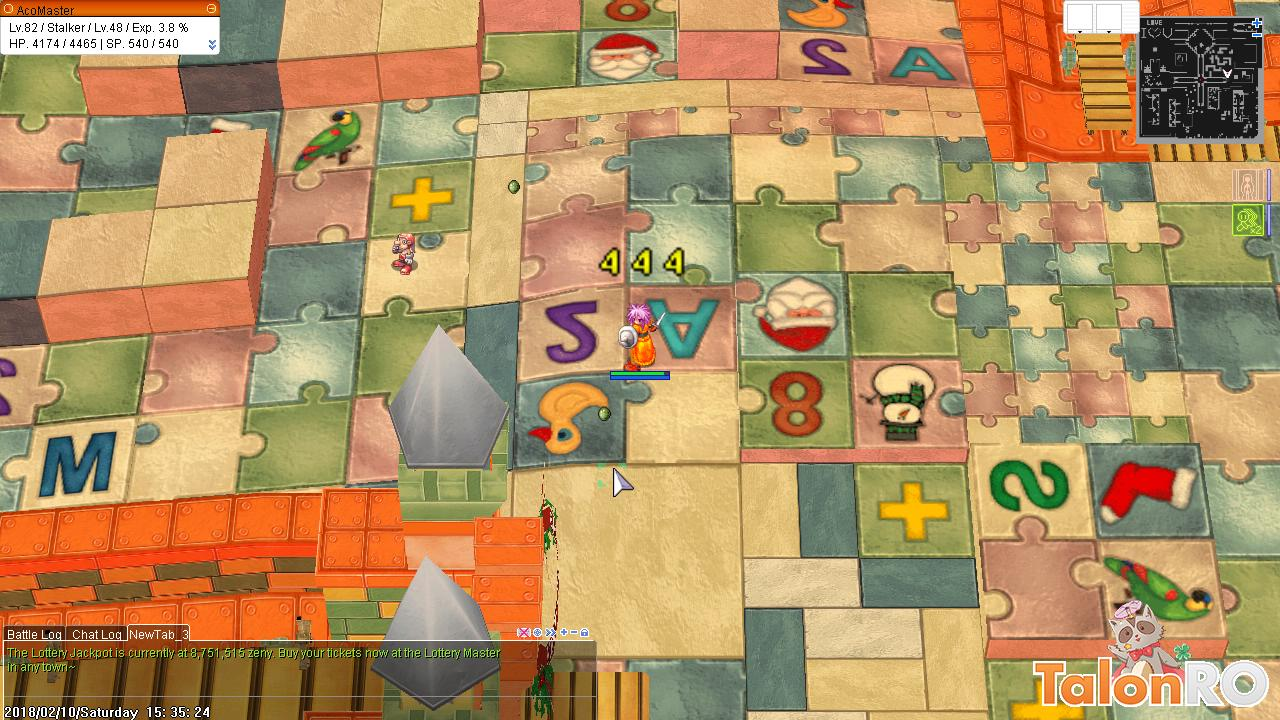loot: (502, 172, 521, 198), (593, 400, 612, 426)
